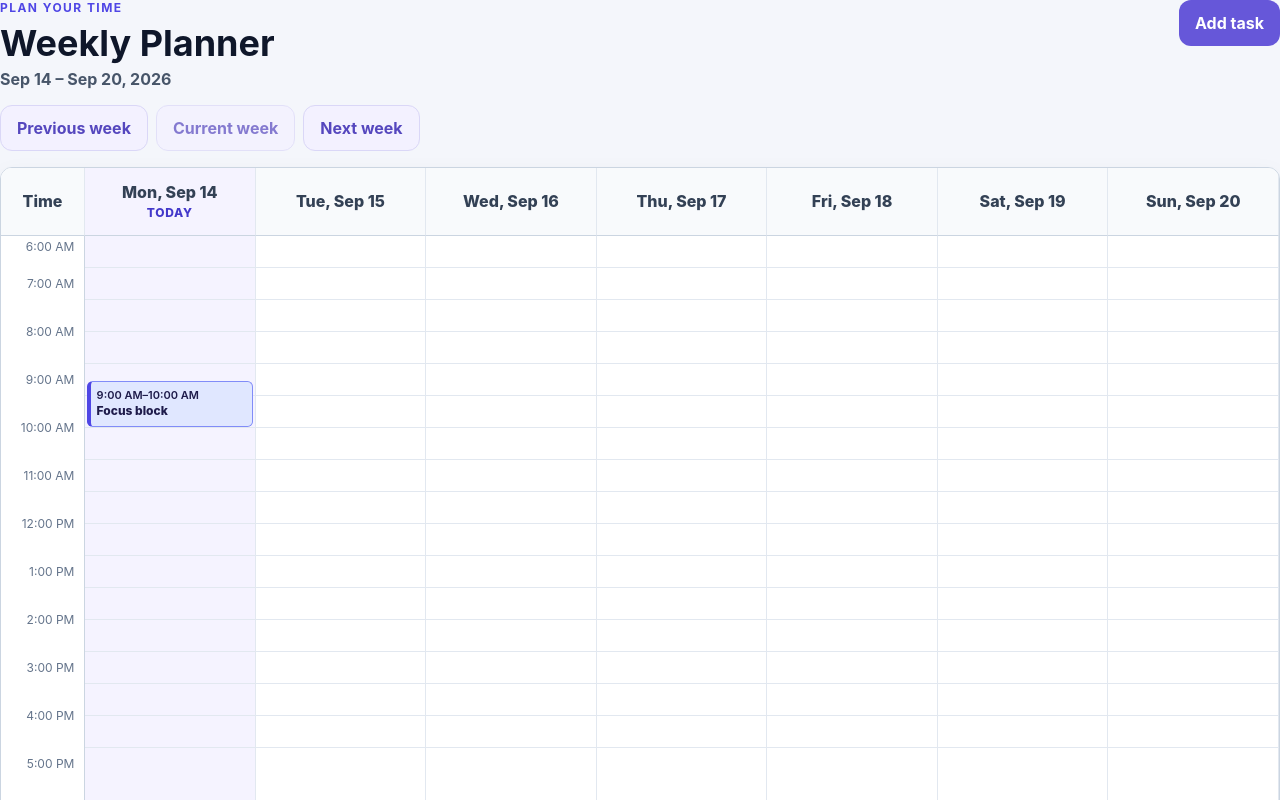
Test: WeeklyPlannerPage › requires explicit confirmation before deleting
Click the button with aria-label "Edit Focus block" at (170, 404), box [87,381,253,427]
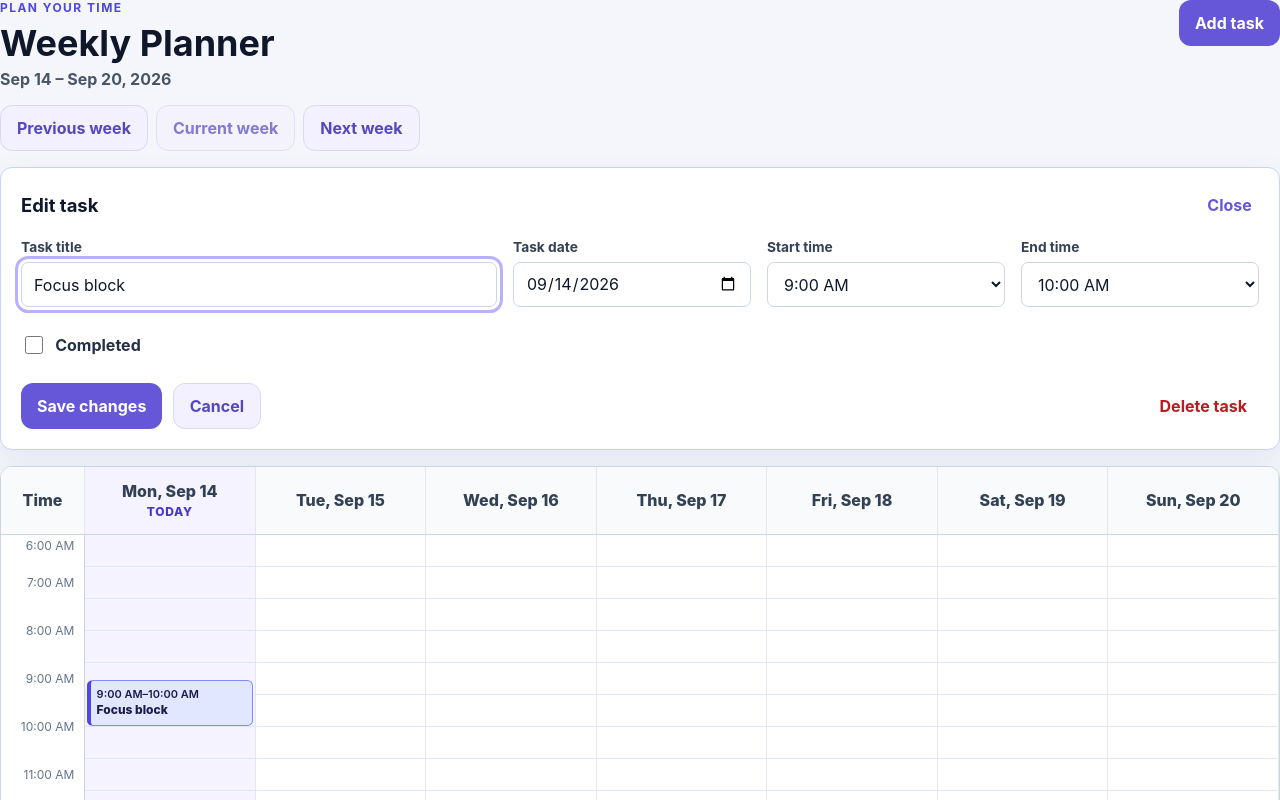
Click the button "Delete task" at (1203, 406), box [1148,383,1259,429]
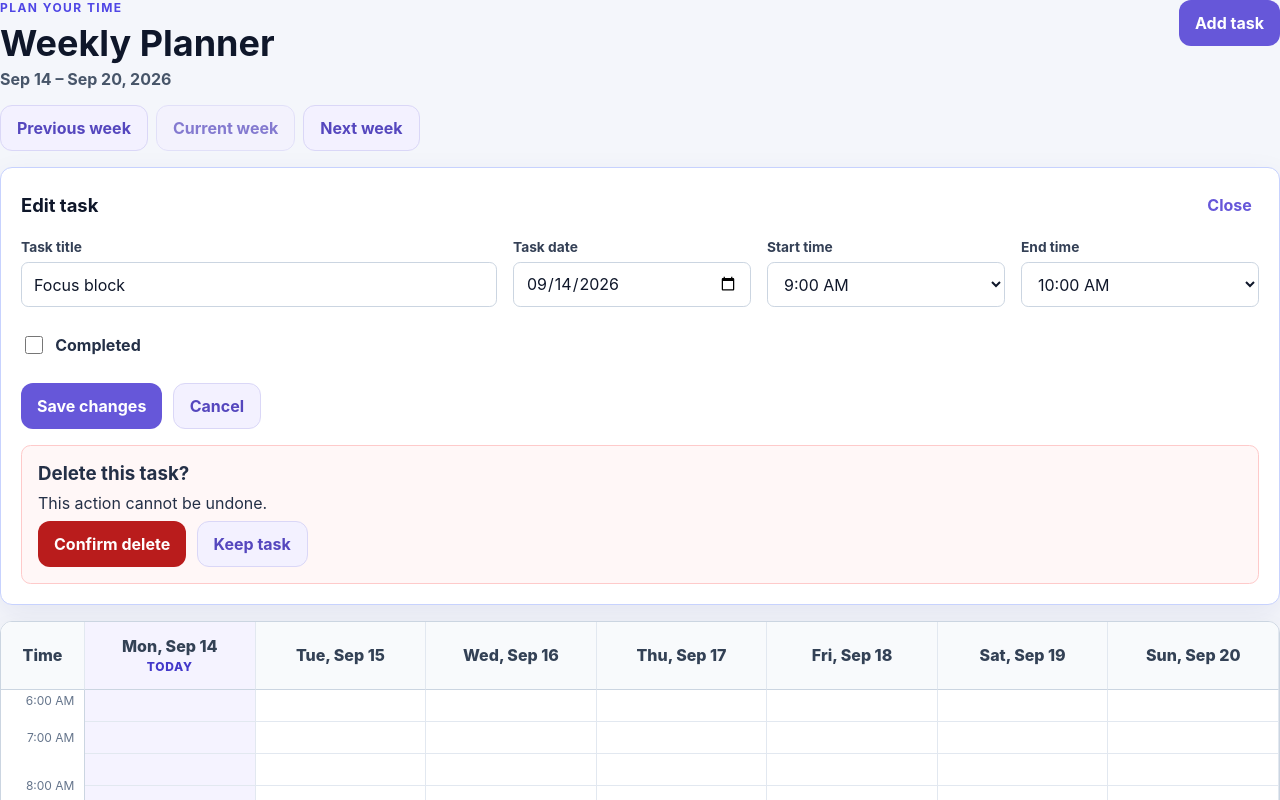
Expected: the dialog "Delete this task?" is shown, [21,445,1259,584]
Click the button "Confirm delete" at (112, 544), box [38,521,186,567]
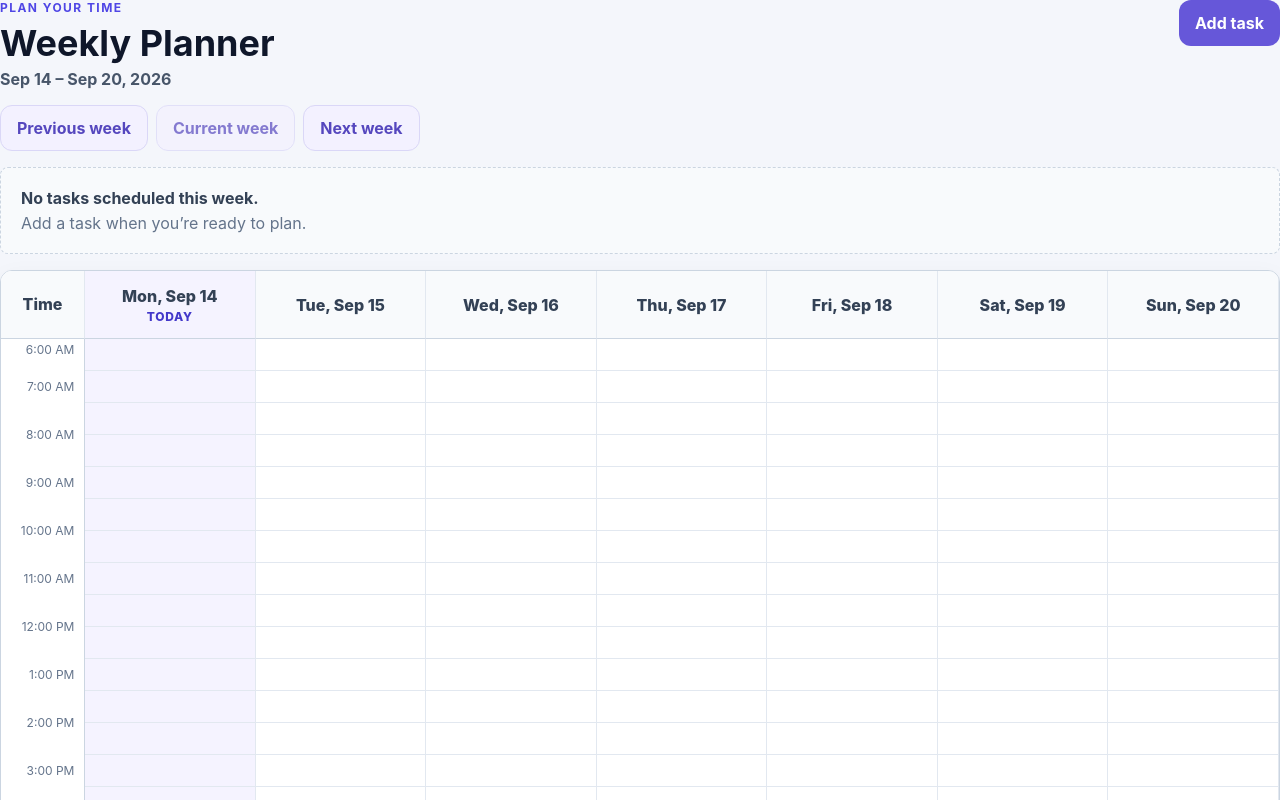
Expected: the text "No tasks scheduled this week." is shown, [21,188,259,208]
